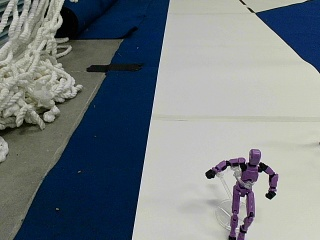pedestrian: (206, 149, 277, 235)
